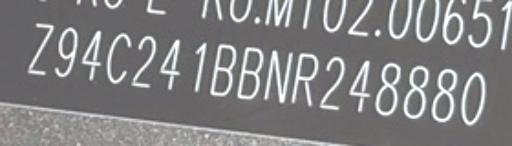letter: (128, 33, 160, 92), (154, 36, 186, 95), (261, 46, 295, 100), (24, 22, 56, 79), (76, 27, 108, 82), (460, 70, 492, 125), (288, 50, 320, 104), (402, 61, 432, 118), (372, 61, 404, 113), (430, 67, 460, 122), (234, 43, 264, 97), (210, 41, 238, 97), (346, 58, 376, 110), (52, 24, 80, 79), (320, 56, 348, 111), (186, 37, 214, 91), (104, 31, 132, 84)
